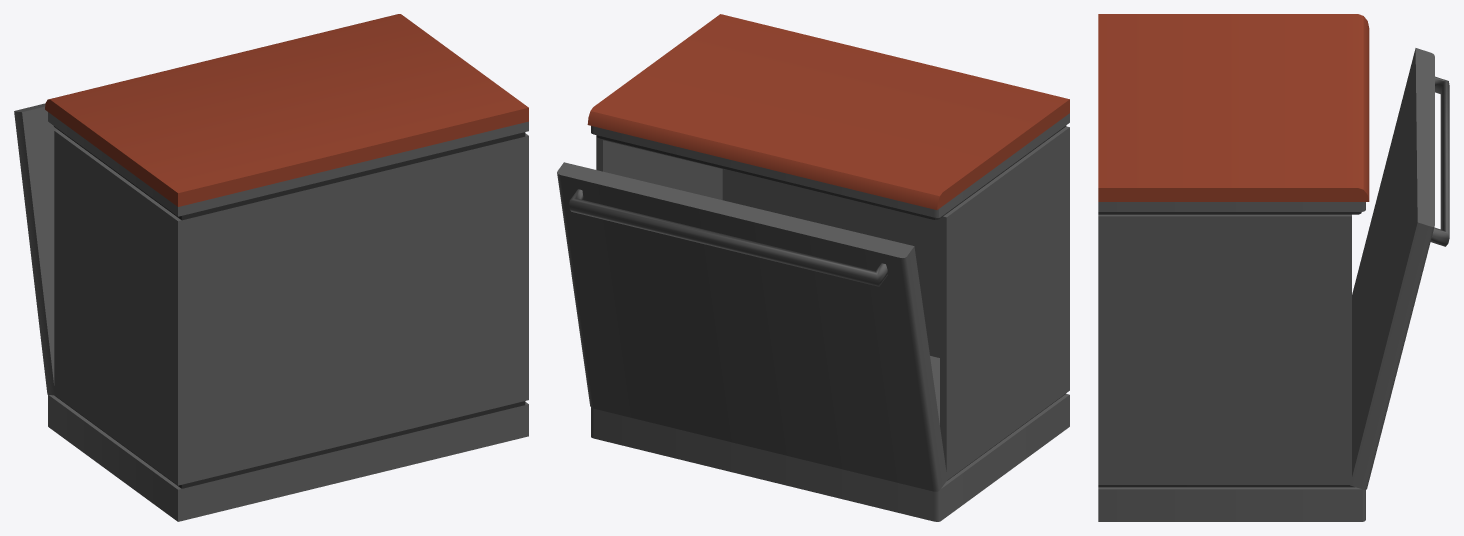
The model's file is Küchenmöbel.fbx_Sp_lmaschine.fbx.
The picture shows the model from 3 angles, left to right: view 1: azimuth 30°, elevation 25°; view 2: azimuth 150°, elevation 25°; view 3: azimuth 270°, elevation 25°; orthographic projection. The views are drawn at different scales.
Visible parts, largest first — view 1: Spülmaschine, Tür.002; view 2: Spülmaschine, Tür.002, Griff R.001; view 3: Spülmaschine, Tür.002, Griff R.001.
Part boxes in pixels (x1,y1,x2,y2): Spülmaschine: [45, 14, 528, 521]; Tür.002: [14, 103, 57, 395]; Spülmaschine: [587, 14, 1069, 521]; Tür.002: [557, 162, 947, 491]; Griff R.001: [569, 189, 887, 286]; Spülmaschine: [1098, 14, 1369, 521]; Tür.002: [1350, 48, 1434, 489]; Griff R.001: [1430, 76, 1449, 246].
Size of the model in its own units: 100 by 89.54 by 85.29.
